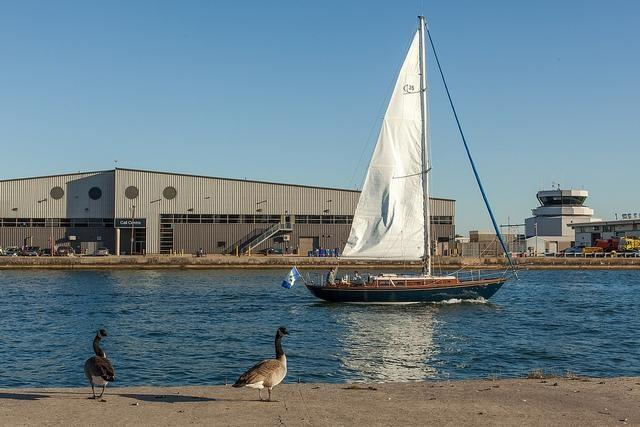car: (565, 245, 586, 256), (57, 246, 76, 256), (24, 246, 41, 256), (6, 247, 22, 256), (96, 247, 109, 257), (0, 246, 4, 256)
truck: (594, 237, 620, 252), (618, 234, 638, 252)
